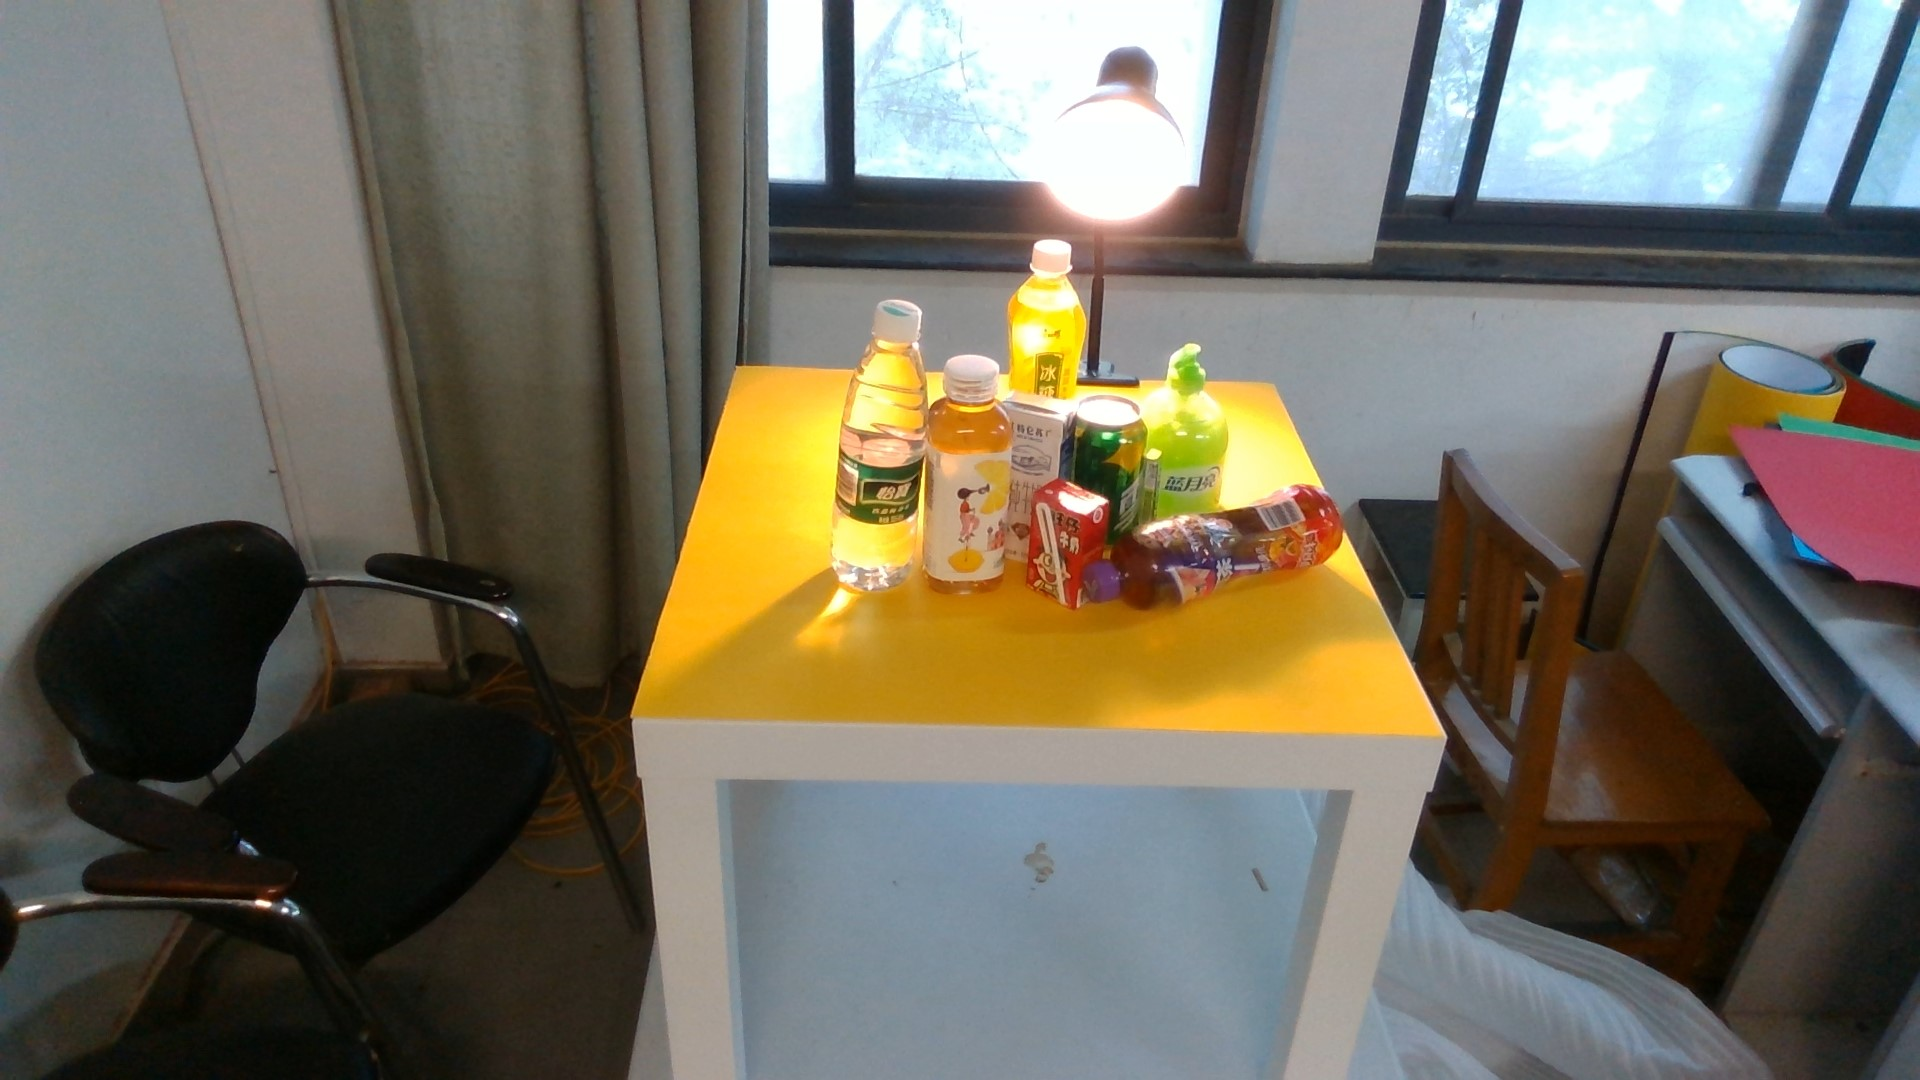BB002: (1141, 448, 1160, 520)
BB010: (1009, 396, 1076, 483)
BB012: (1030, 484, 1087, 607)
ZA002: (1163, 344, 1229, 505)
ZC001: (1079, 394, 1145, 489)
ZC009: (1112, 520, 1345, 612)
ZC011: (1007, 237, 1088, 396)
ZC012: (922, 349, 1009, 599)
ZC017: (832, 298, 924, 593)
